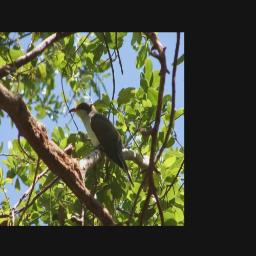Cuckoo: (67, 102, 134, 188)
